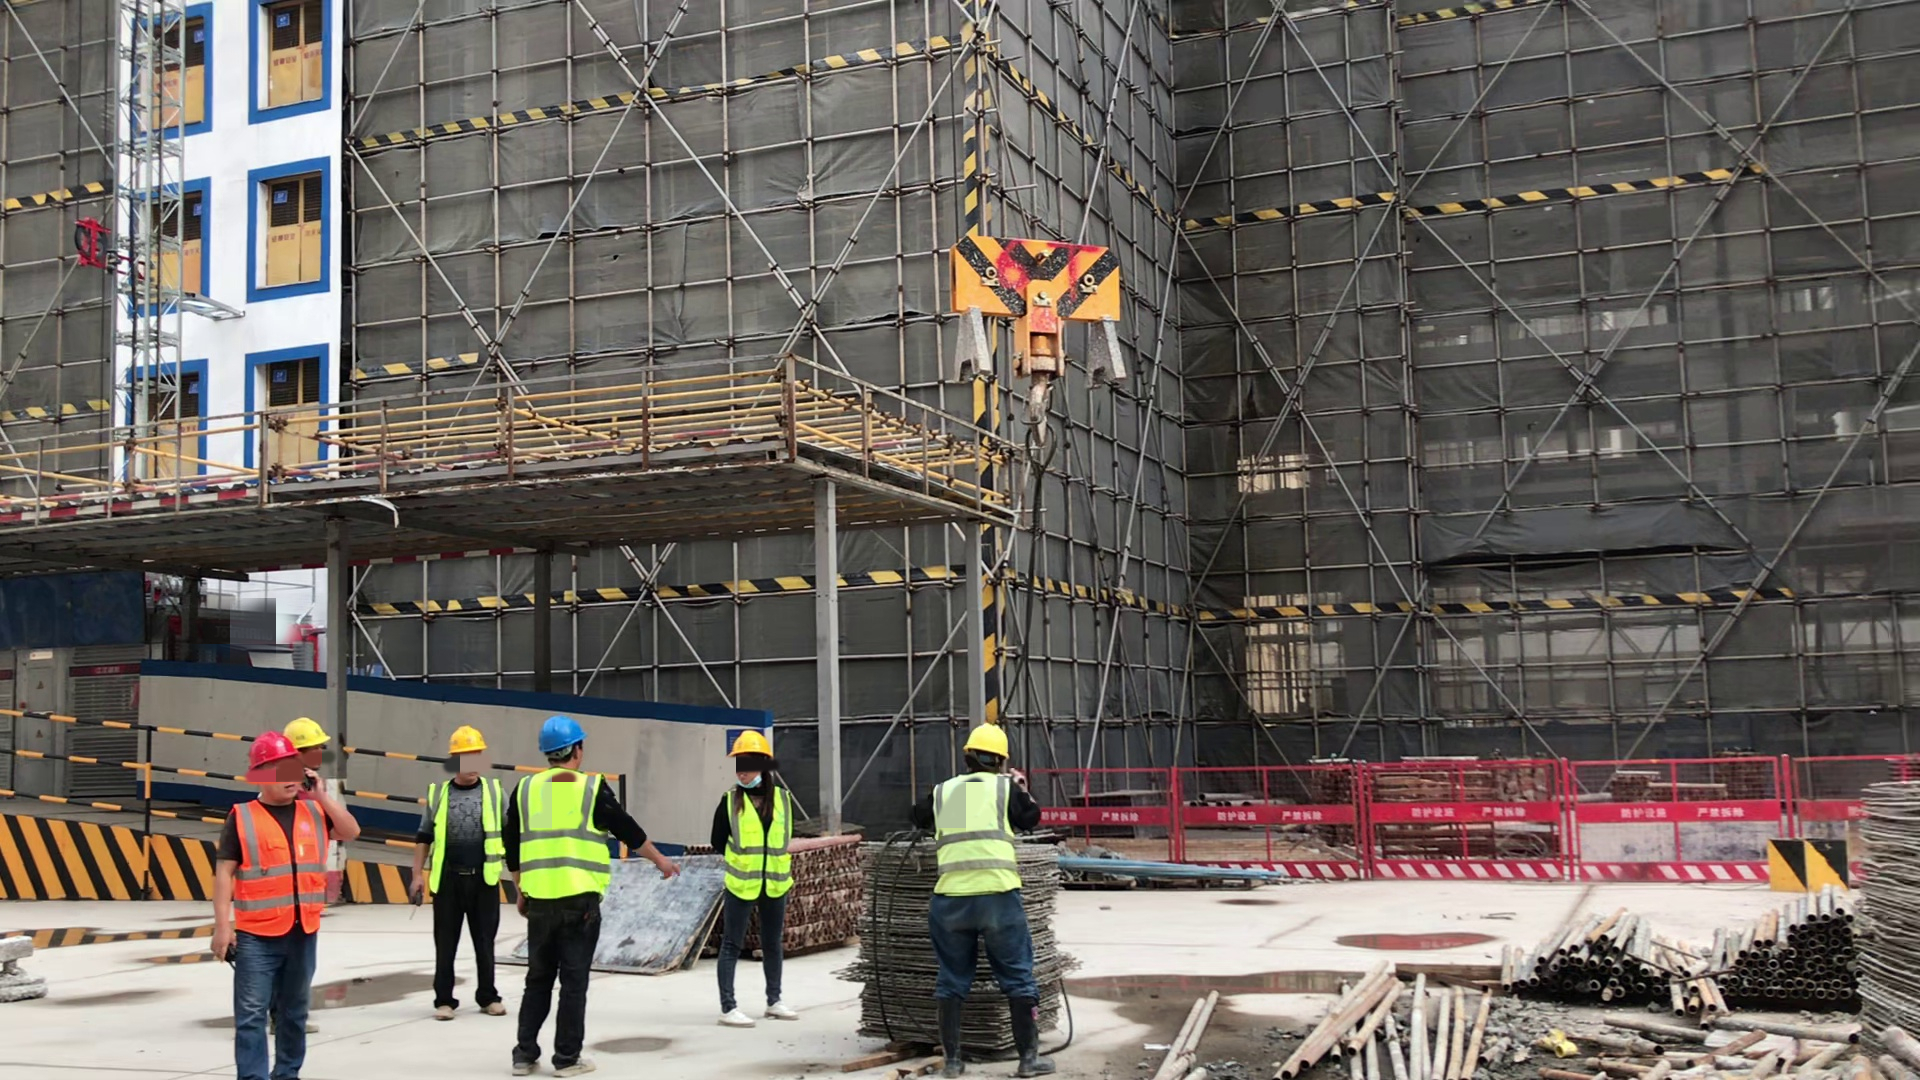helmet: (248, 732, 300, 765), (963, 723, 1011, 756), (537, 716, 585, 748), (286, 718, 330, 745), (448, 725, 487, 754), (729, 730, 772, 755)
person: (502, 715, 640, 1077), (924, 723, 1063, 1080), (217, 732, 322, 1080), (425, 726, 508, 1022), (712, 730, 795, 1026), (285, 716, 356, 889)
vest: (231, 801, 327, 934), (515, 768, 608, 894), (933, 779, 1019, 899), (428, 785, 502, 888), (724, 788, 789, 901)
